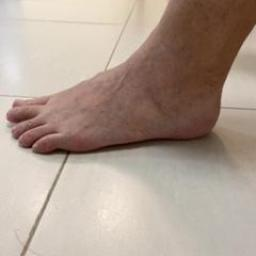Lateral View -Left Foot-: (1, 27, 244, 166)
